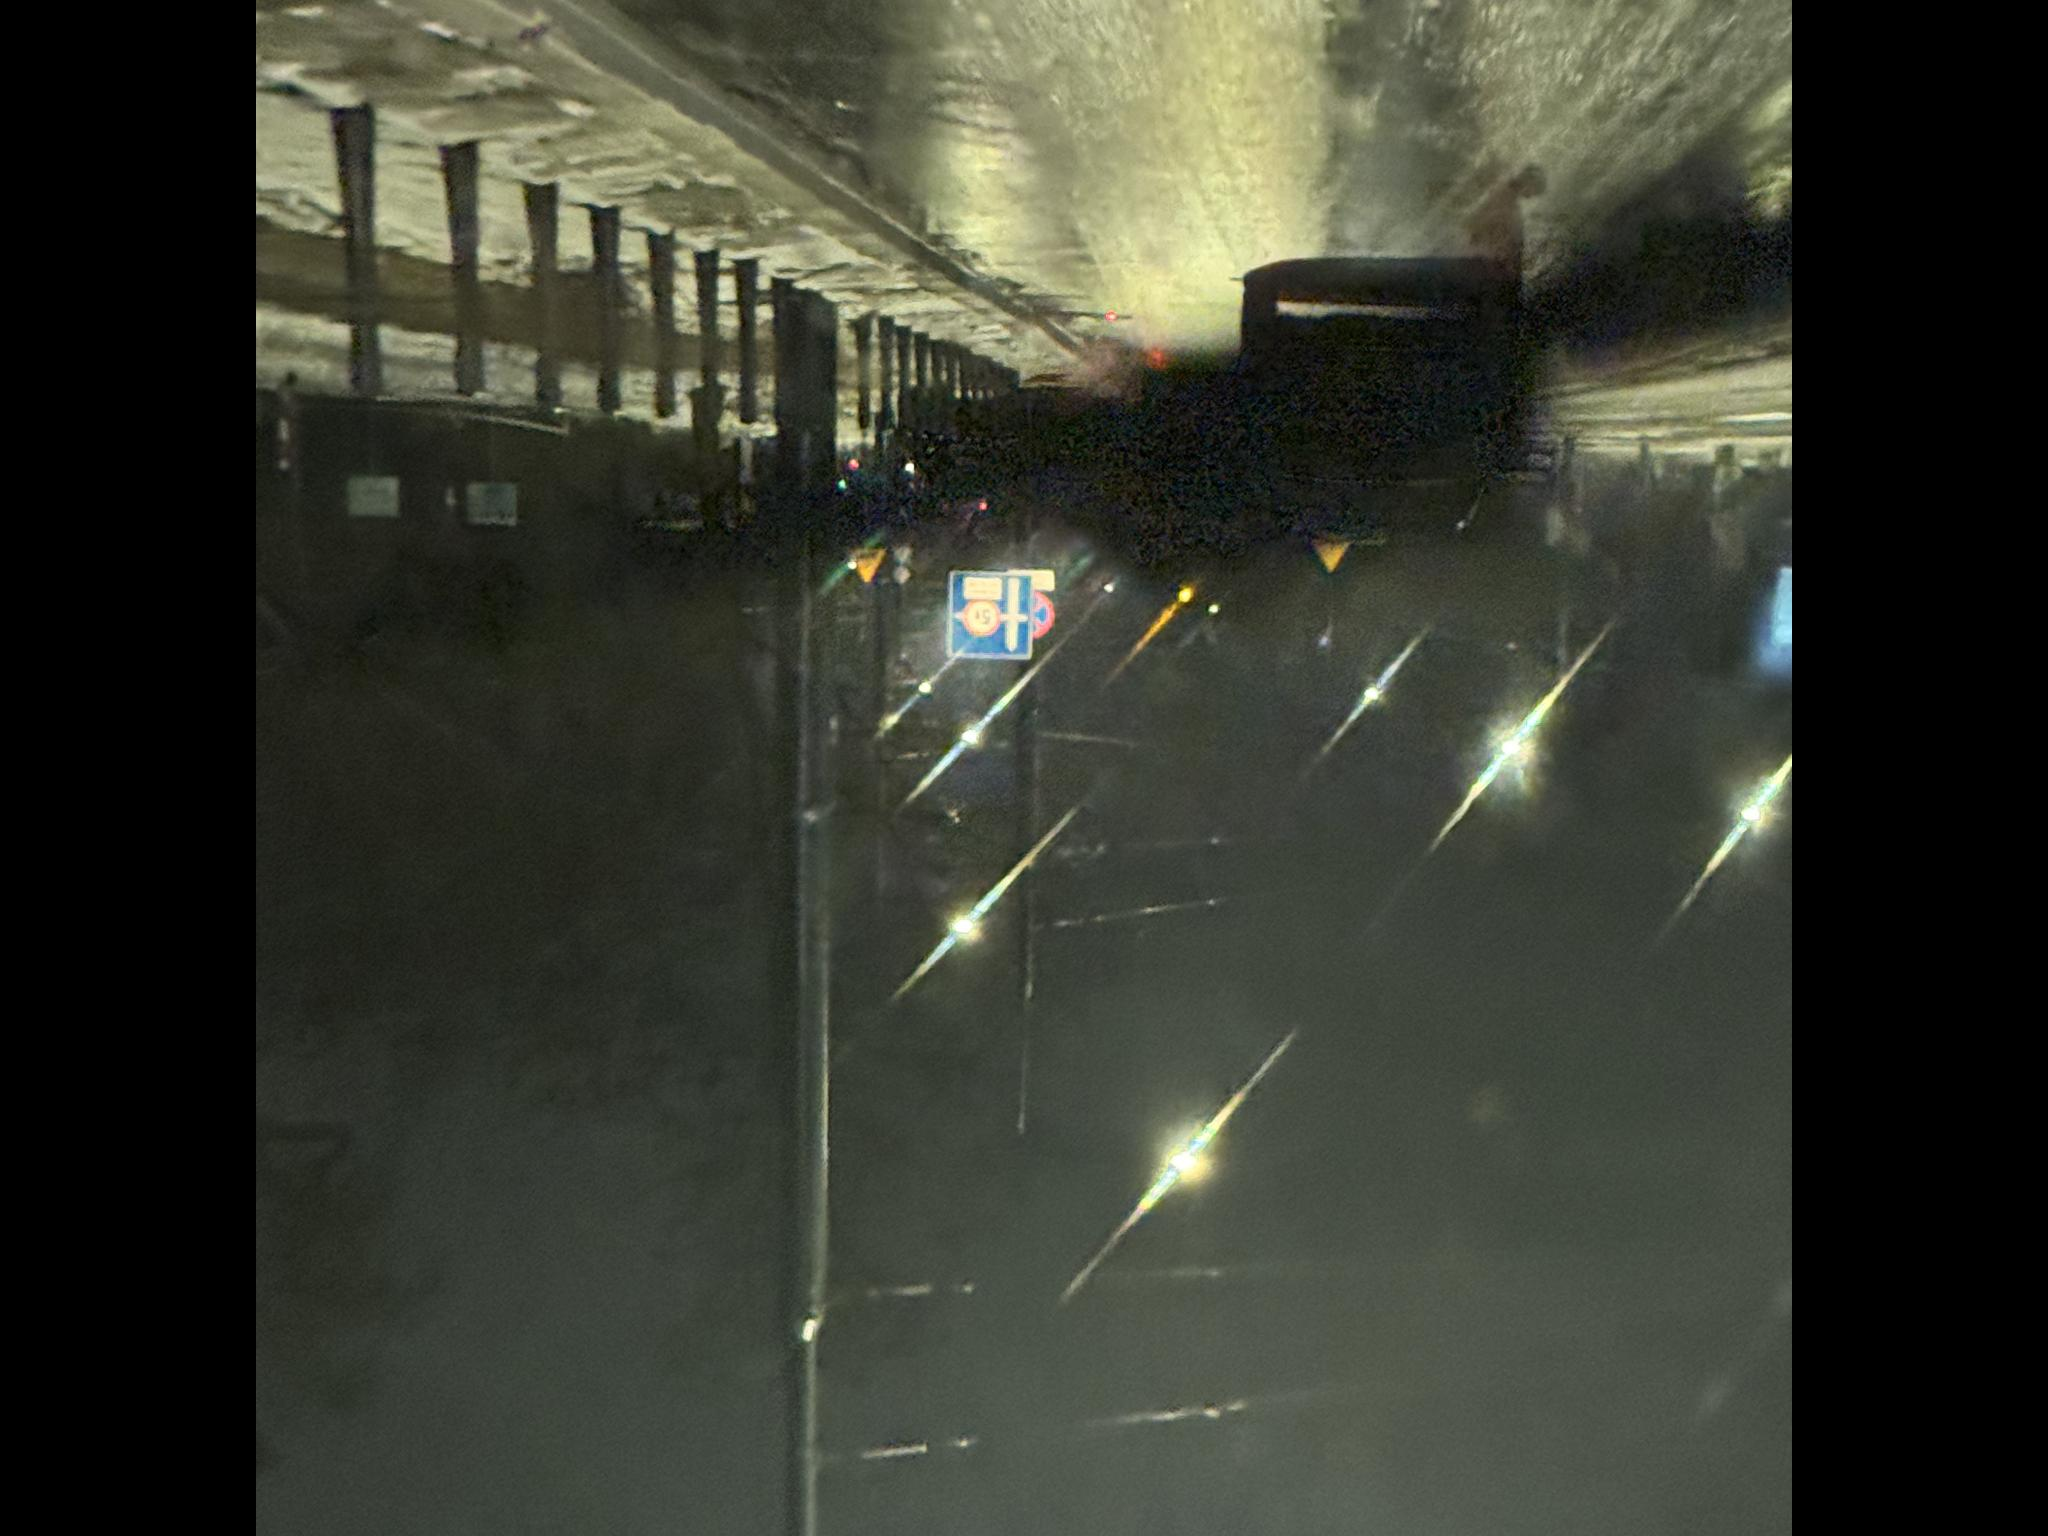other: (1390, 948, 1478, 1032)
prohibitory: (1409, 1032, 1459, 1054)
